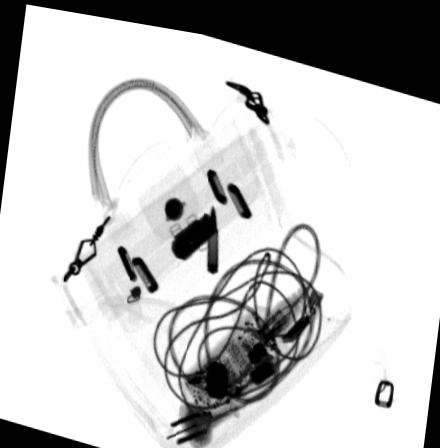Bullet: (204, 195, 218, 269)
